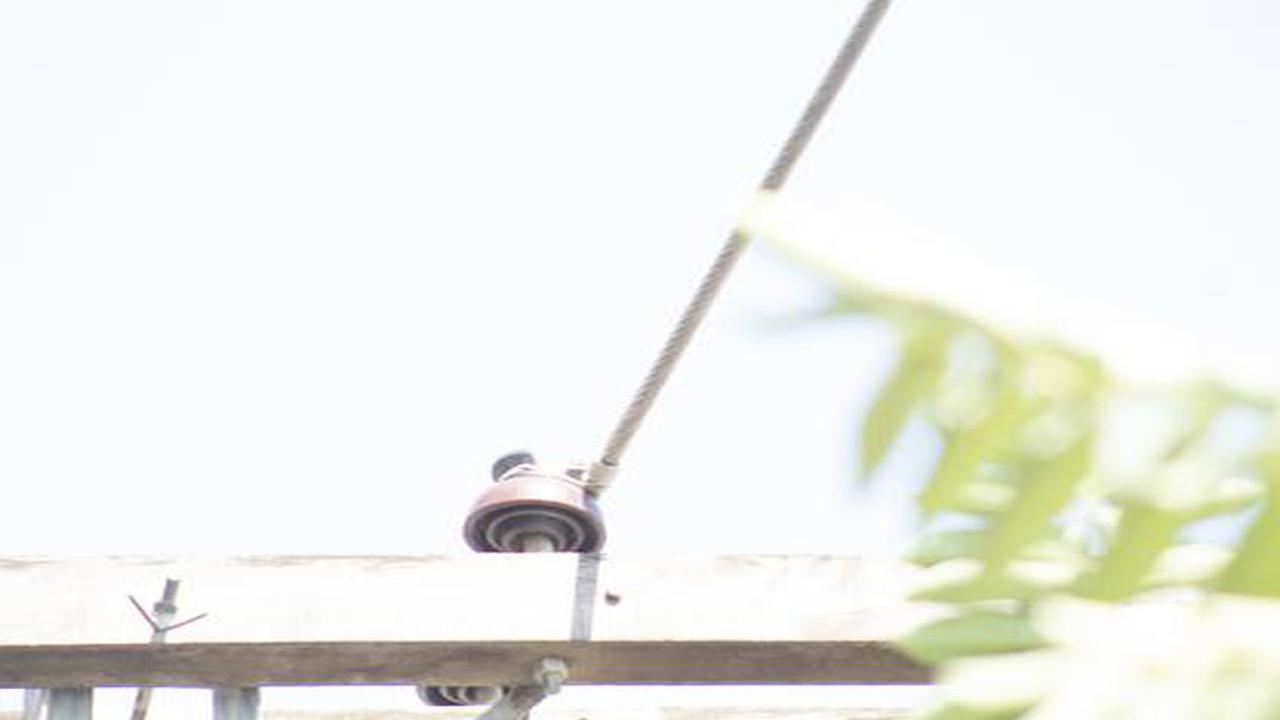insulator_pin: (462, 448, 616, 557)
